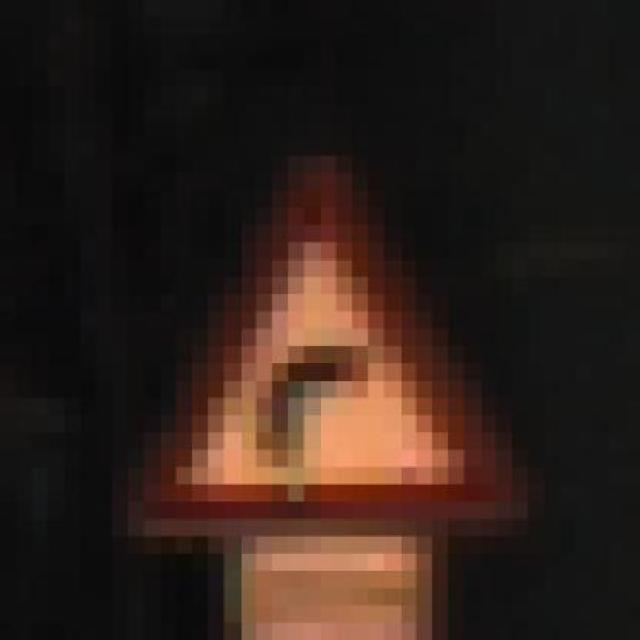Dangerous Rright Curve Ahead: (96, 138, 544, 536)
